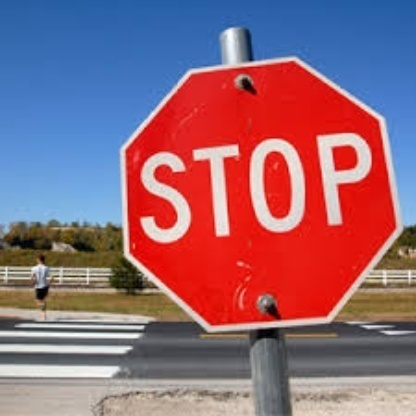stop: (119, 58, 398, 325)
